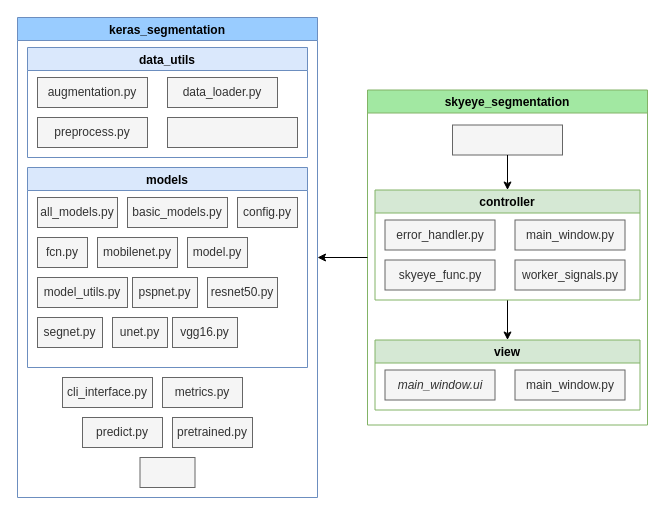
Image size: 665x515. Some labels were removed from this diagram. The centre of each missing label's shape, as x and y in pixels:
entrypoint.py: pixel 507 139
train.py: pixel 167 472
visualize_dataset.py: pixel 232 132
